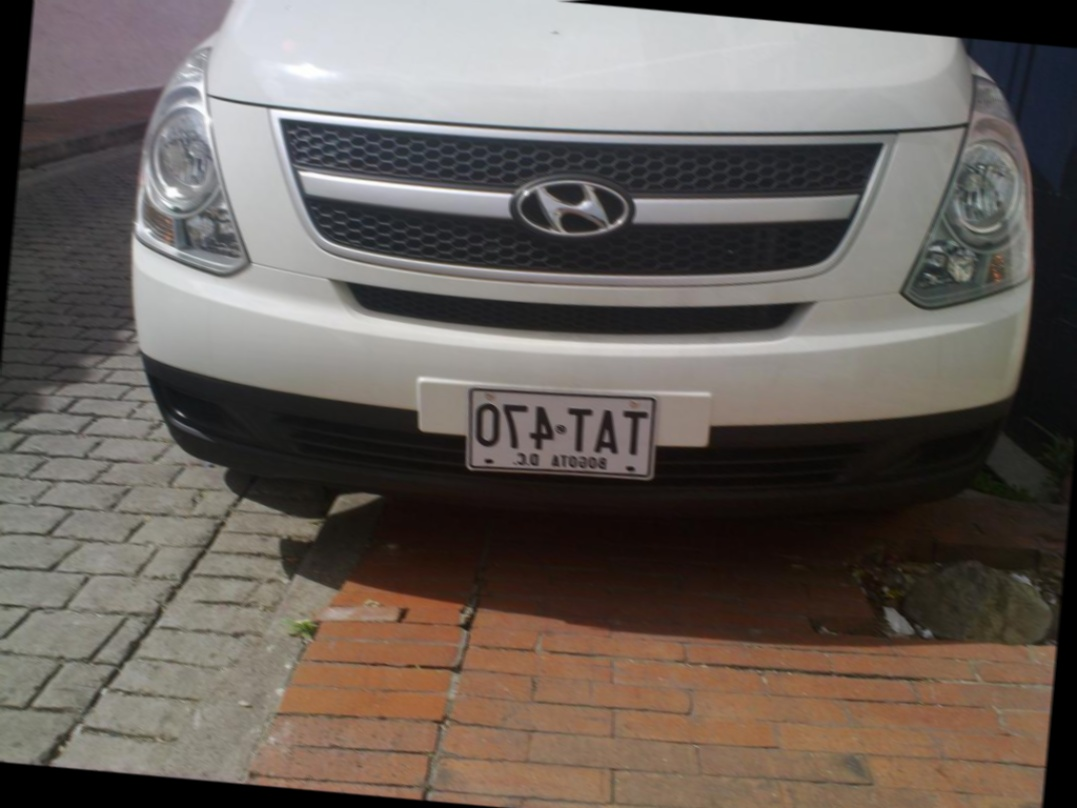placas: (457, 370, 667, 492)
